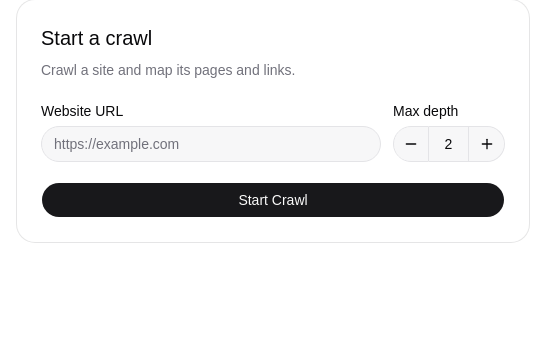
shows the API's validation error when the job is rejected
Type "ftp://example.com" into the field labelled "Website URL" at (211, 144), box [41,126,381,162]
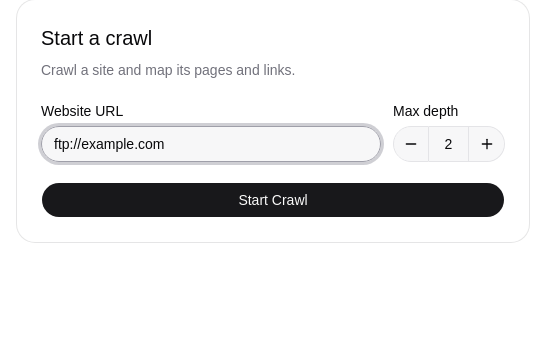
Click the button "Start Crawl" at (273, 200), box [41,182,505,218]
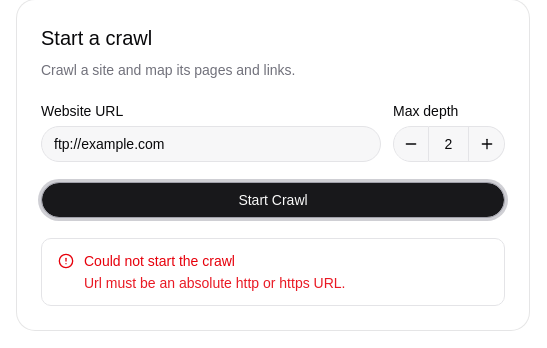
Expected: the message shows "Url must be an absolute http or https URL.", [84,275,346,291]
